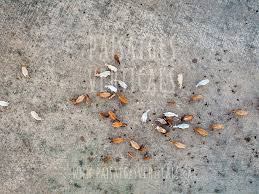sheep: (231, 105, 248, 118), (168, 137, 185, 150), (193, 125, 209, 138), (139, 107, 151, 124), (209, 120, 226, 132), (93, 69, 111, 80), (194, 76, 209, 89), (187, 93, 203, 105), (30, 110, 43, 123), (20, 65, 32, 79), (175, 72, 184, 90), (106, 109, 119, 121), (72, 93, 84, 105), (161, 110, 179, 118), (115, 95, 129, 105), (154, 124, 168, 134), (107, 137, 124, 145), (103, 62, 118, 71), (128, 138, 140, 149), (83, 92, 93, 105), (95, 90, 111, 98), (111, 121, 129, 128), (112, 53, 122, 65), (104, 83, 116, 92), (182, 113, 194, 122), (156, 116, 168, 125), (1, 95, 9, 108), (116, 78, 127, 87), (96, 111, 106, 118)
